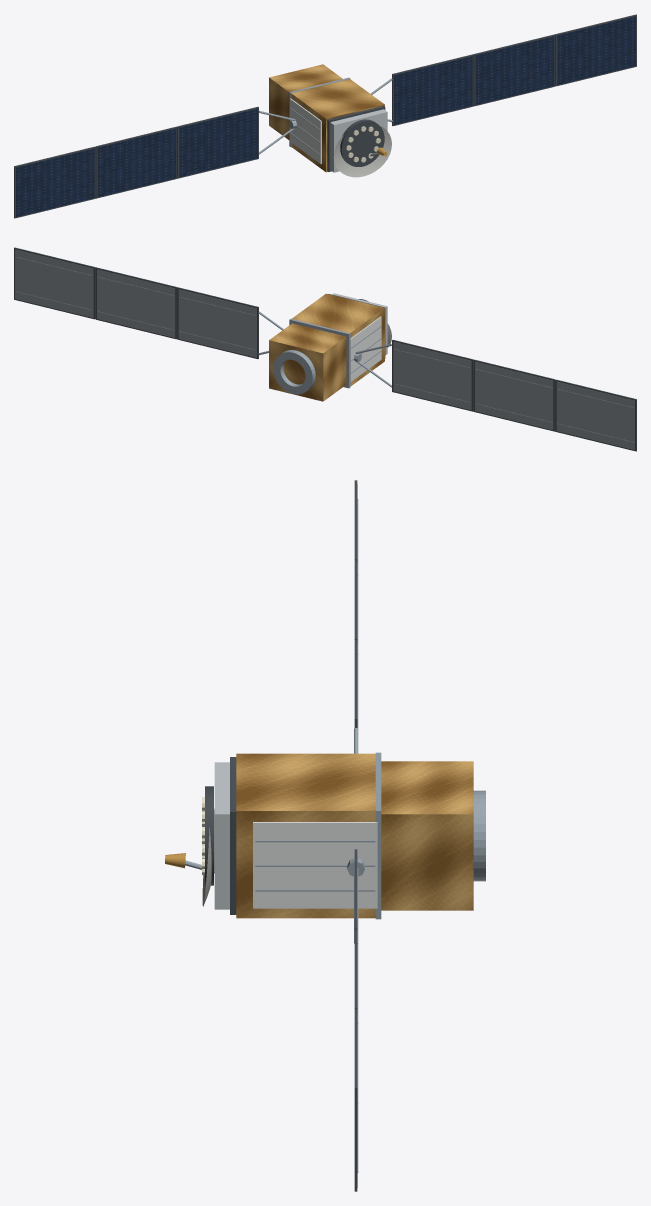
File: beidou-2.glb
The picture shows the model from 3 angles, top to bottom: view 1: azimuth 30°, elevation 25°; view 2: azimuth 150°, elevation 25°; view 3: azimuth 270°, elevation 25°; orthographic projection. The views are drawn at different scales.
Visible parts, largest first — view 1: Solar cell panel (×6), Solar panel frame (×6), Payload module, Service module, Planar antenna aperture, Radiator face, Antenna equipment shelf, Deck-mounted reflector, Earth-facing deck; view 2: Rear array substrate (×6), Service module, Solar panel frame (×6), Payload module, Radiator face, Launch adapter ring, Module interface; view 3: Service module, Payload module, Radiator face, Antenna equipment shelf, Launch adapter ring, Earth-facing deck, Module interface.
Boxes of the visible parts, x1,y1,x2,y2 form: Solar cell panel (×6): [16, 16, 635, 217]; Solar panel frame (×6): [14, 14, 636, 218]; Payload module: [291, 79, 384, 172]; Service module: [269, 64, 342, 139]; Planar antenna aperture: [340, 119, 384, 166]; Radiator face: [289, 98, 321, 163]; Antenna equipment shelf: [330, 109, 387, 172]; Deck-mounted reflector: [333, 126, 391, 177]; Earth-facing deck: [327, 106, 385, 171]; Rear array substrate (×6): [15, 249, 634, 450]; Service module: [269, 323, 346, 401]; Solar panel frame (×6): [14, 247, 636, 451]; Payload module: [292, 293, 384, 385]; Radiator face: [350, 316, 381, 382]; Launch adapter ring: [273, 350, 315, 394]; Module interface: [289, 318, 350, 388]; Service module: [381, 761, 473, 910]; Payload module: [236, 753, 375, 918]; Radiator face: [253, 822, 377, 908]; Antenna equipment shelf: [214, 762, 229, 909]; Launch adapter ring: [473, 790, 485, 881]; Earth-facing deck: [230, 757, 236, 914]; Module interface: [375, 752, 381, 919].
Size of the model in its own units: 17.98 by 1.63 by 4.02.
Materials: 10 (2 with a texture image).
